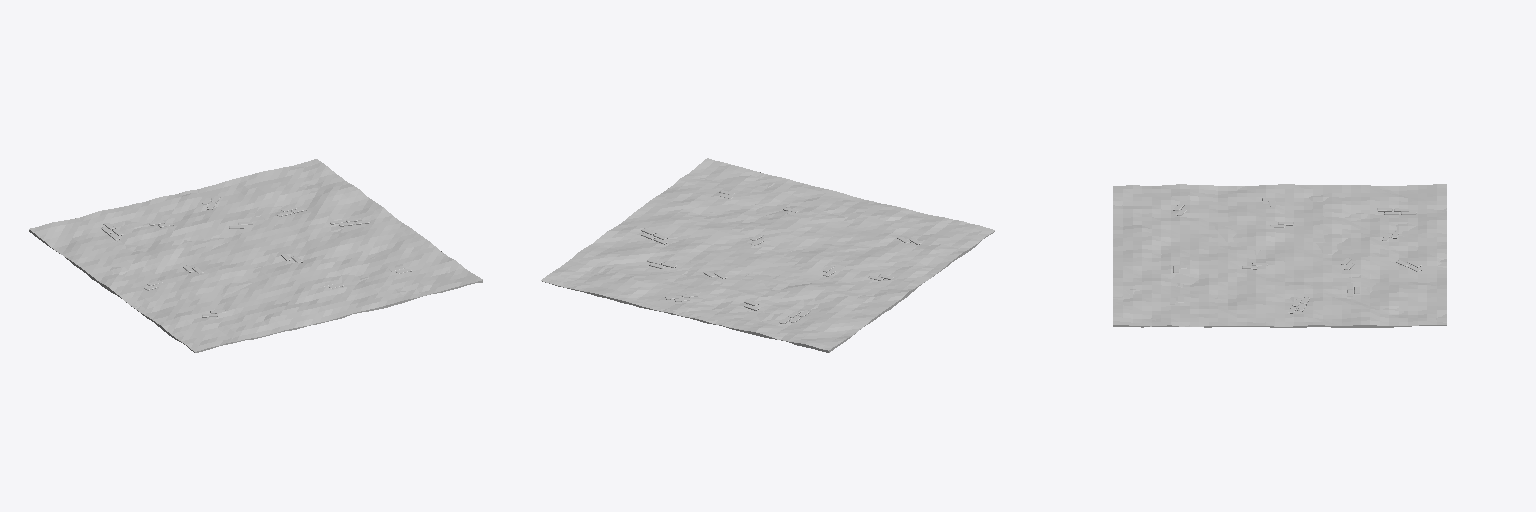
Rendered from midGround.obj.
3 renders of one model, left to right at view 1: azimuth 30°, elevation 25°; view 2: azimuth 150°, elevation 25°; view 3: azimuth 270°, elevation 25°, orthographic.
Visible parts, largest first — view 1: Plane.001; view 2: Plane.001; view 3: Plane.001.
Boxes of the visible parts, x1=… form: Plane.001: x1=29, y1=159, x2=482, y2=352; Plane.001: x1=541, y1=158, x2=994, y2=352; Plane.001: x1=1113, y1=184, x2=1446, y2=327.
Bounding box in the file's own units: 36 × 0.7539 × 36.